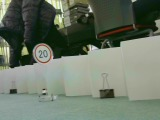speed_20: (31, 42, 54, 65)
